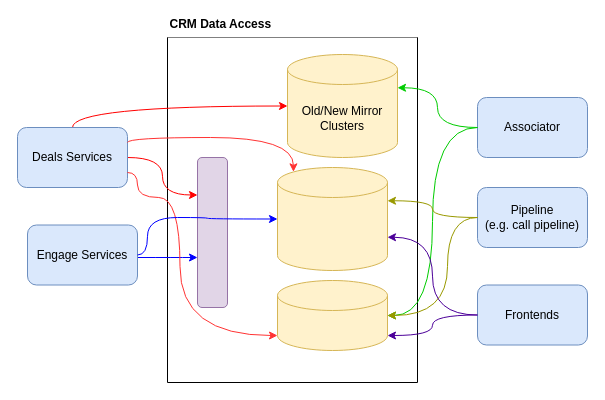
The diagram is 605 pixels wide and 400 high, and some of its shapes have lost their labels. The centre of each missing label's shape, as x and y in pixels:
"API" goes at point (212, 232).
"crm_fields" goes at point (332, 315).
"operational (customer_ +)" goes at point (332, 218).
